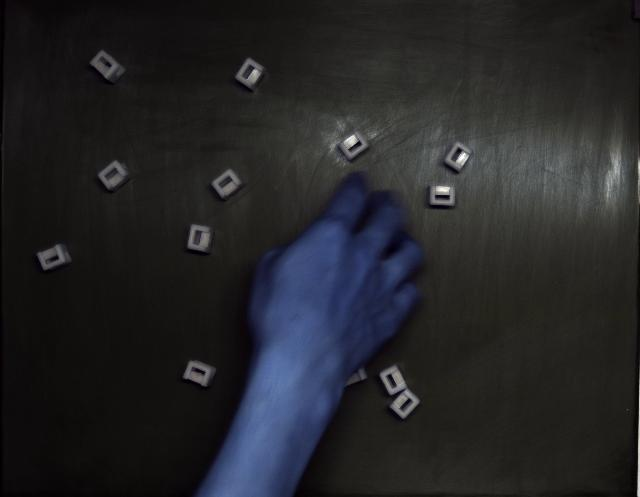fourth_side: (90, 50, 125, 84), (98, 160, 134, 191), (211, 169, 245, 200), (235, 58, 266, 91), (36, 244, 71, 271), (390, 389, 420, 420), (182, 361, 216, 388), (379, 365, 408, 396), (339, 131, 369, 160), (444, 141, 472, 172), (188, 225, 215, 254), (429, 185, 455, 206)
